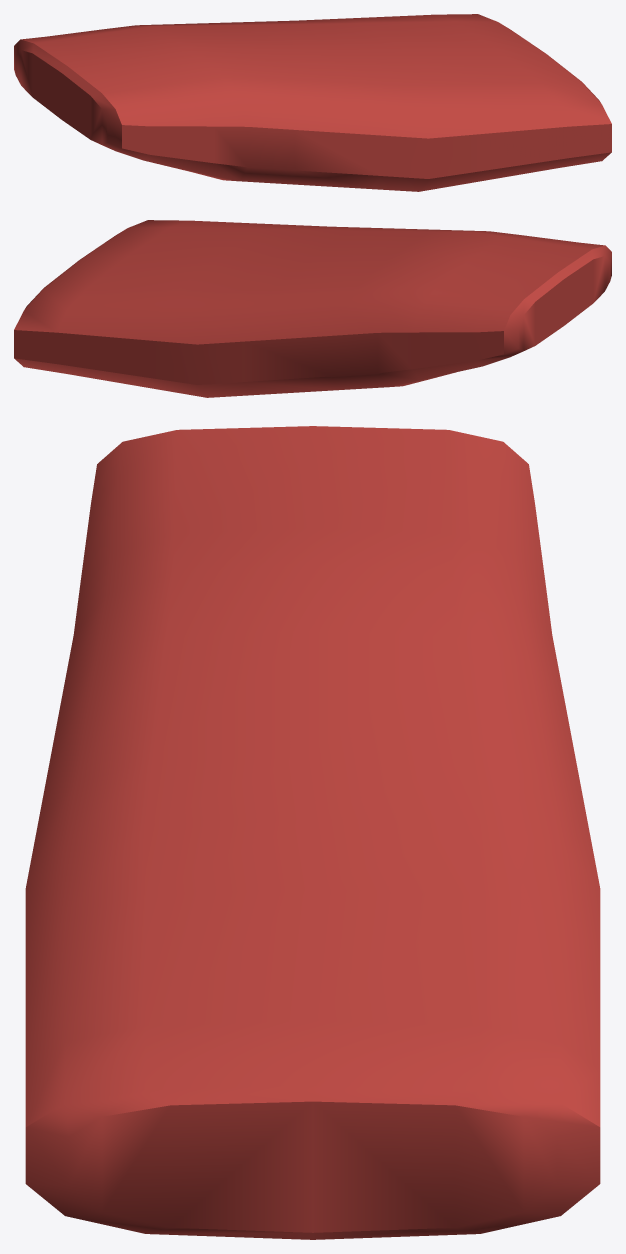
File: ducktail_lod1.glb
3 views of the same model, one above another, from view 1: azimuth 30°, elevation 25°; view 2: azimuth 150°, elevation 25°; view 3: azimuth 270°, elevation 25° (orthographic). The views are drawn at different scales.
Visible parts, largest first — view 1: ducktail_lod1; view 2: ducktail_lod1; view 3: ducktail_lod1.
Part boxes in pixels (x1,y1,x2,y2): ducktail_lod1: [14, 14, 611, 191]; ducktail_lod1: [14, 220, 611, 397]; ducktail_lod1: [25, 426, 600, 1239].
Size of the model in its own units: 0.46 by 0.16 by 0.236.
